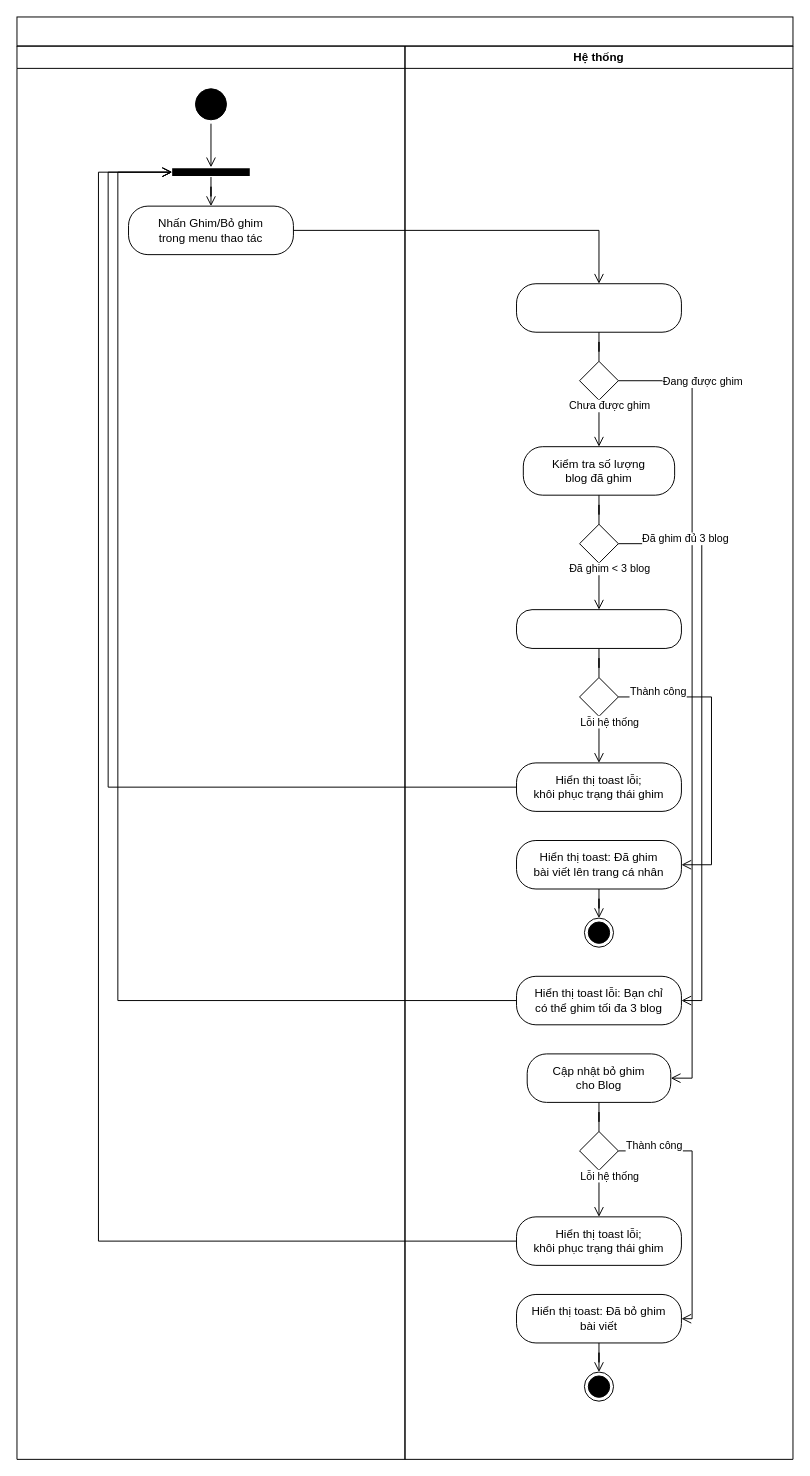
The diagram is 810 pixels wide and 1476 high, and some of its shapes have lost their labels. The shapes that lost their labels are listed below. From the top down, each one's box as (x1, y1, x2, y2) in pixels, then its label:
(16, 16, 793, 46): GHIM BLOG
(516, 283, 681, 332): Xác định trạng thái ghim hiện tại
(516, 609, 681, 648): Cập nhật trạng thái ghim
(16, 45, 405, 1459): Thành viên
